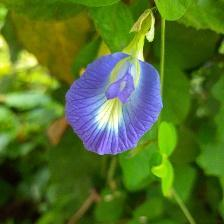shankupushpam: (65, 9, 166, 159)
